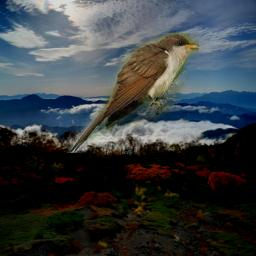Cuckoo: (69, 33, 199, 153)
